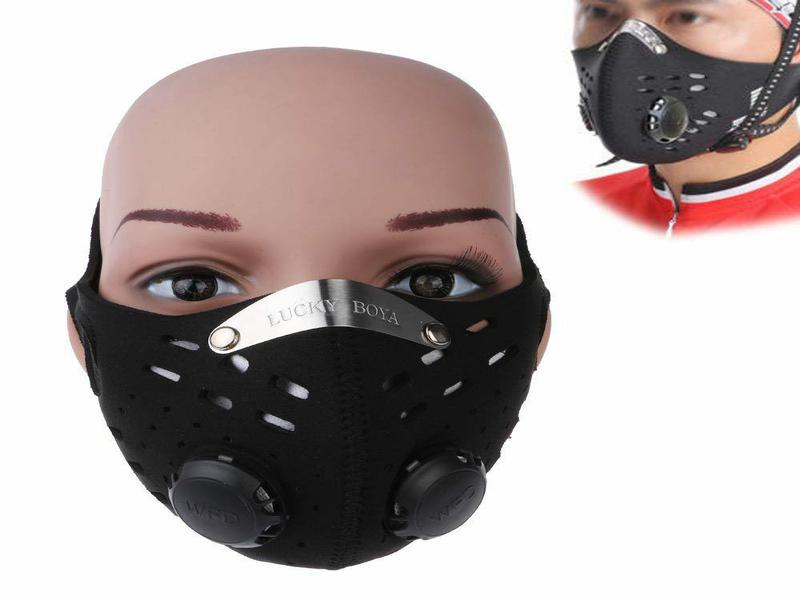with_mask: (58, 49, 565, 570), (574, 1, 800, 166)
